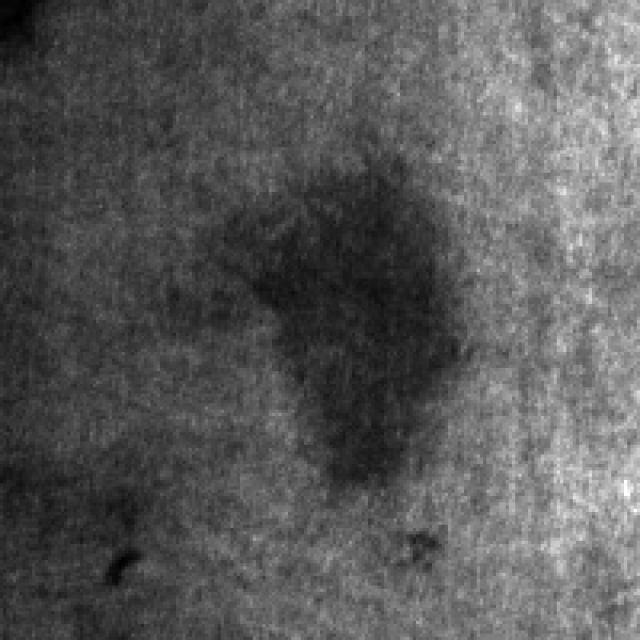patches: (230, 144, 461, 499)
